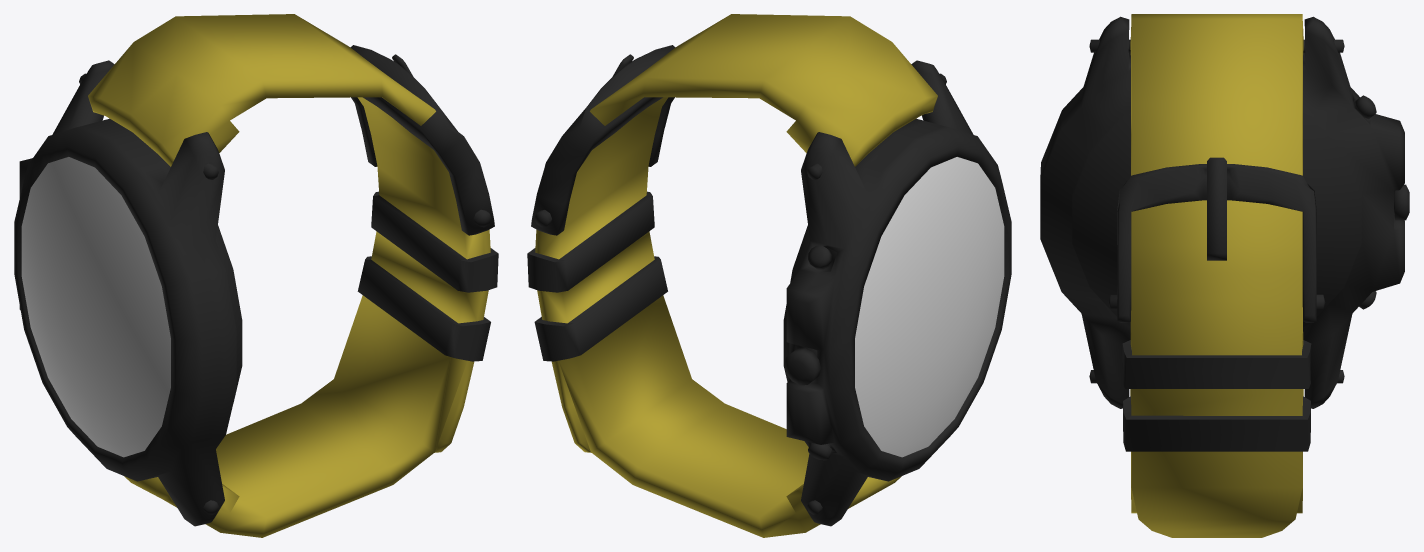
File: watch.glb
The picture shows the model from 3 angles, left to right: view 1: azimuth 30°, elevation 25°; view 2: azimuth 150°, elevation 25°; view 3: azimuth 270°, elevation 25°; orthographic projection.
Visible parts, largest first — view 1: Wristband, Body, Glass; view 2: Wristband, Body, Glass; view 3: Wristband, Body.
Part boxes in pixels (<box>): Wristband: <box>88,14,498,537</box>; Body: <box>14,45,494,526</box>; Glass: <box>21,157,170,457</box>; Wristband: <box>527,14,937,537</box>; Body: <box>531,45,1011,526</box>; Glass: <box>855,157,1004,457</box>; Wristband: <box>1122,14,1311,537</box>; Body: <box>1040,16,1409,408</box>.
Bounding box in the file's own units: 0.0719 × 0.0853 × 0.0632.
Materials: 2 (1 with a texture image).
